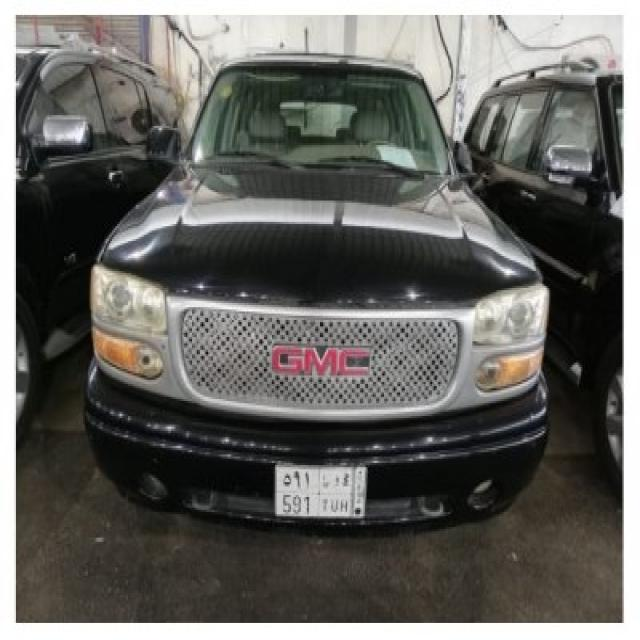license_plate: (274, 460, 368, 522)
